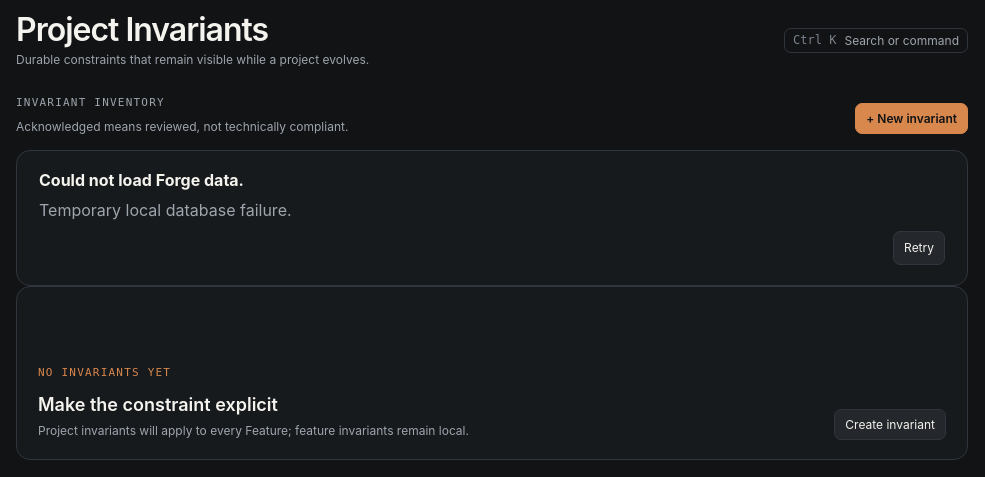
Scenario: Invariants feature error recovery › recovers from a failed load and renders the current invariant
Expected: the text "Temporary local database failure." is shown, [39, 200, 292, 220]
Click the button "Retry": {"x": 919, "y": 248} [893, 231, 945, 265]
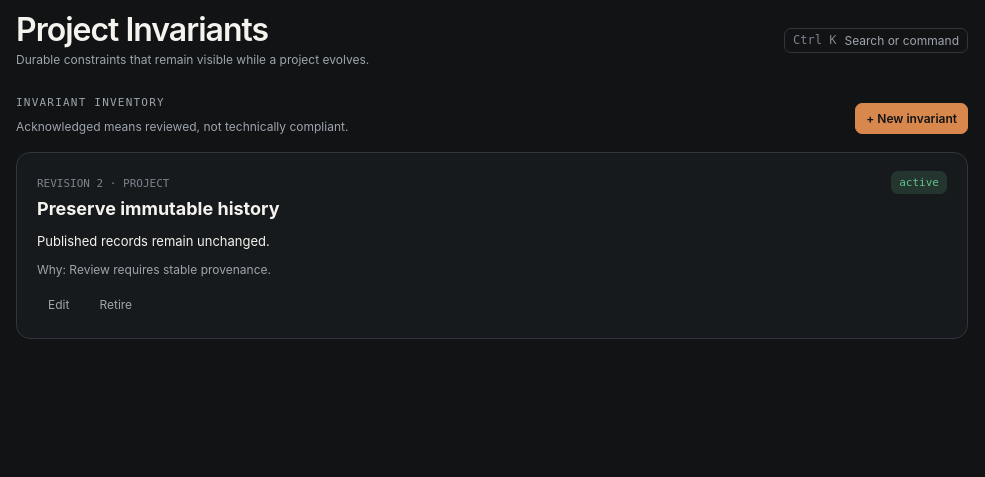
Expected: the heading "Preserve immutable history" is shown, [37, 197, 280, 221]
Expected: the text "Published records remain unchanged." is shown, [37, 233, 270, 249]
